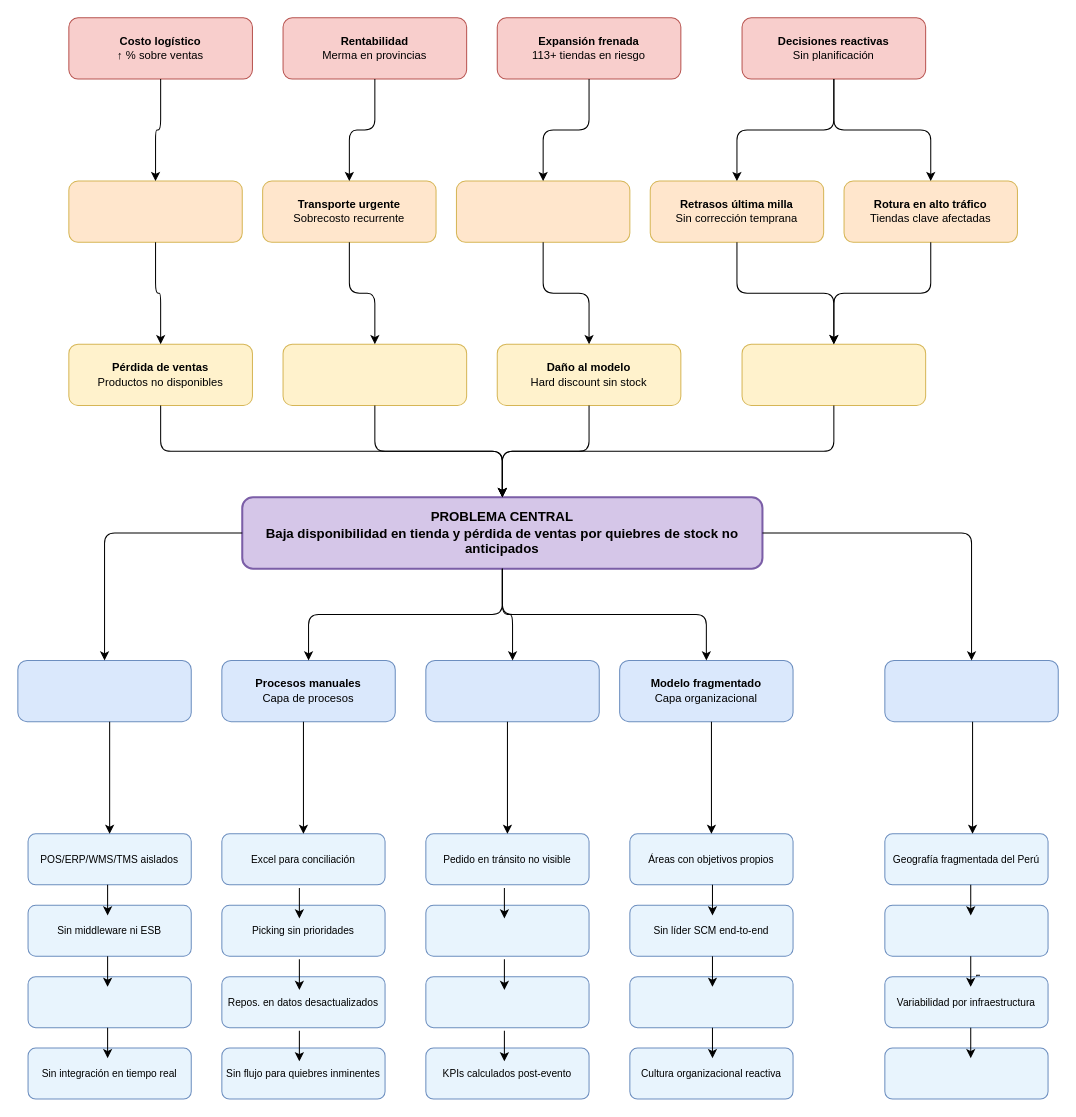
This 1076x1117 diagram has some shape labels left out. Each missing label, with the centre of its shape:
3PL externos sin integración: point 966,930
Batch con desfase horas/días: point 109,1002
Desintegración de sistemas Capa tecnológica: point 104,690
Expansión superó madurez: point 711,1002
Factores externos = problemas crónicos: point 966,1073
Factores externos Entorno: point 971,690
Falta de trazabilidad Capa de información: point 512,690
Insatisfacción Cliente no encuentra producto: point 374,374
Picking ineficiente Sin prioridad dinámica: point 542,211
Pérdida de mercado Competidores ganan: point 833,374
Retrasos detectados tarde: point 507,930
Sin alertas de demanda: point 507,1002
Órdenes erradas Datos incorrectos: point 155,211
